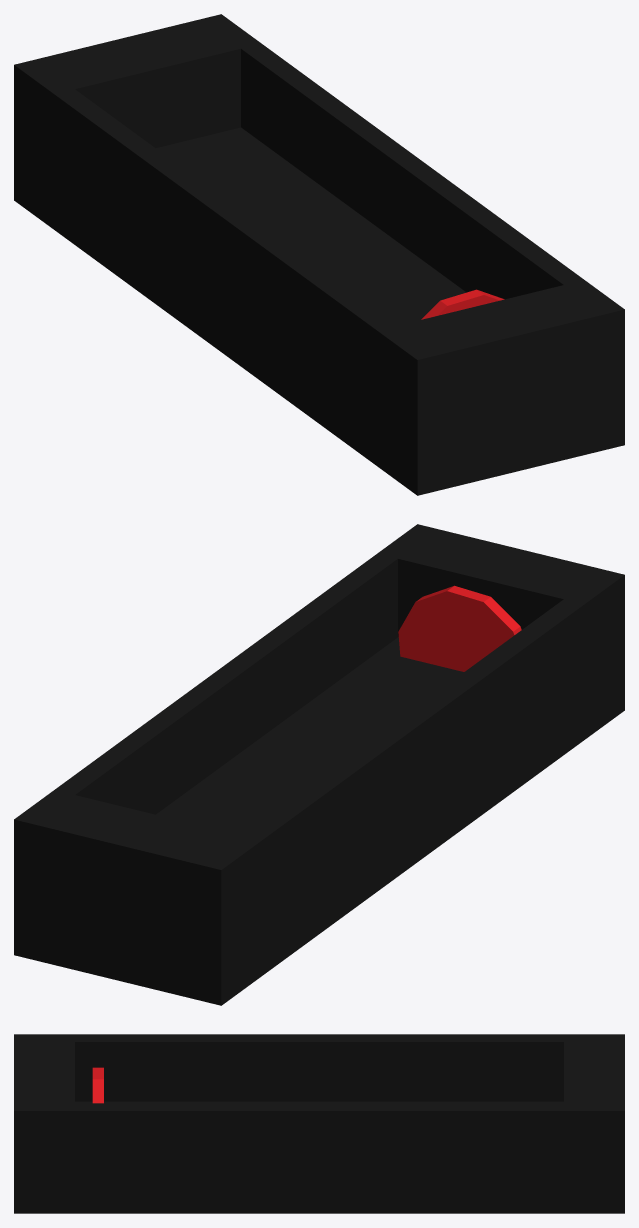
Rendered from progressbar.gltf.
3 renders of one model, top to bottom at view 1: azimuth 30°, elevation 25°; view 2: azimuth 150°, elevation 25°; view 3: azimuth 270°, elevation 25°, orthographic. The views are drawn at different scales.
Visible parts, largest first — view 1: Cube, Cylinder; view 2: Cube, Cylinder; view 3: Cube, Cylinder.
Part boxes in pixels (x1,y1,x2,y2): Cube: [14, 14, 624, 495]; Cylinder: [421, 289, 504, 319]; Cube: [14, 524, 624, 1005]; Cylinder: [398, 585, 521, 671]; Cube: [14, 1034, 624, 1213]; Cylinder: [92, 1067, 103, 1103].
Bounding box in the file's own units: 3.2 × 2 × 10.78.
